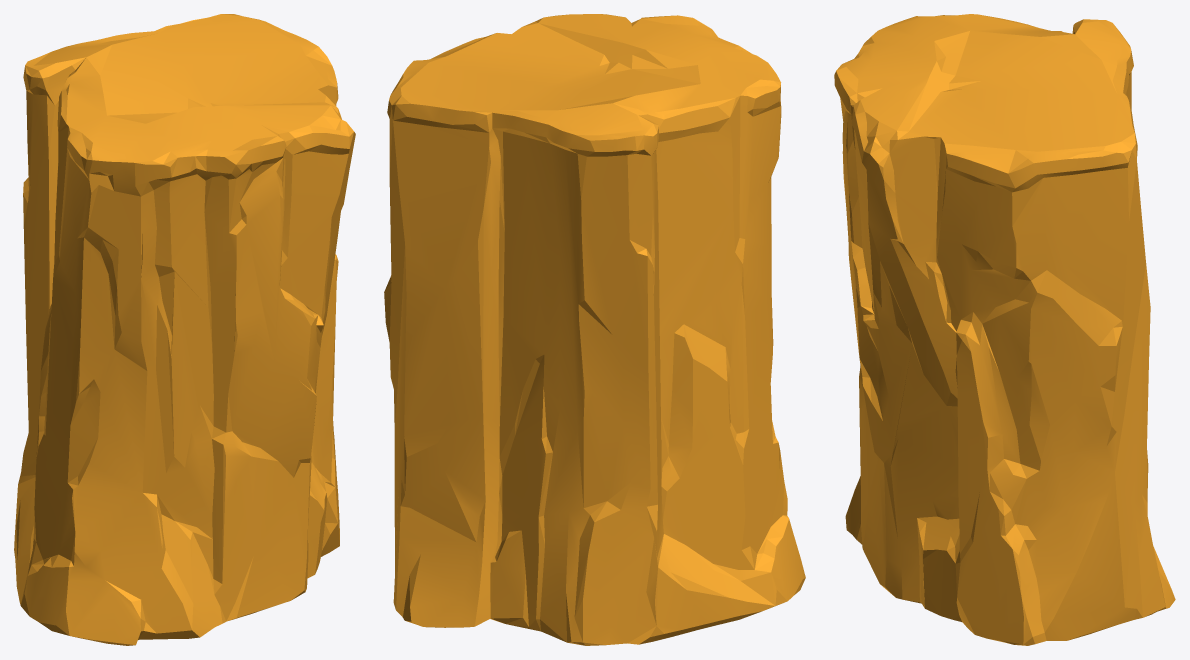
Rendered from SM_Iceberg_Big_A.fbx.
3 renders of one model, left to right at view 1: azimuth 30°, elevation 25°; view 2: azimuth 150°, elevation 25°; view 3: azimuth 270°, elevation 25°, orthographic. The views are drawn at different scales.
Visible parts, largest first — view 1: iceberg-big-a; view 2: iceberg-big-a; view 3: iceberg-big-a.
Part boxes in pixels (<box>): iceberg-big-a: <box>14,14,355,645</box>; iceberg-big-a: <box>384,14,805,645</box>; iceberg-big-a: <box>834,14,1175,645</box>.
Bounding box in the file's own units: 11.86 × 16.89 × 10.33.
